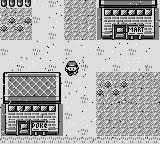main: (65, 61, 79, 76)
no-caminable: (3, 73, 60, 135), (99, 0, 156, 39), (0, 0, 31, 7)
puerta: (114, 25, 126, 39), (18, 121, 30, 135)
